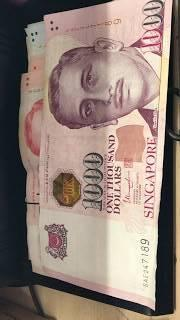1000SingaporeDollar: (45, 0, 162, 292)
